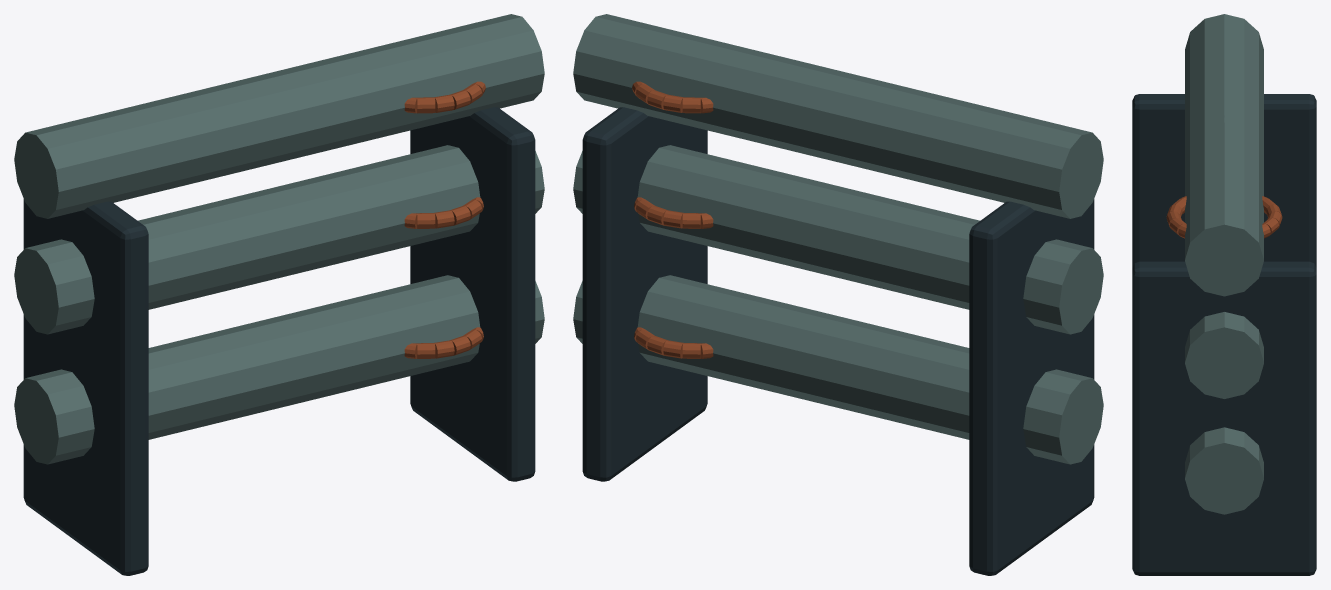
Rendered from pipe-rack.glb.
3 renders of one model, left to right at view 1: azimuth 30°, elevation 25°; view 2: azimuth 150°, elevation 25°; view 3: azimuth 270°, elevation 25°, orthographic. The views are drawn at different scales.
Visible parts, largest first — view 1: pipe-rack; view 2: pipe-rack; view 3: pipe-rack.
Part boxes in pixels (x1,y1,x2,y2): pipe-rack: (14, 14, 544, 575); pipe-rack: (573, 14, 1103, 575); pipe-rack: (1132, 14, 1316, 575).
Size of the model in its own units: 1.76 by 1.44 by 0.65.
